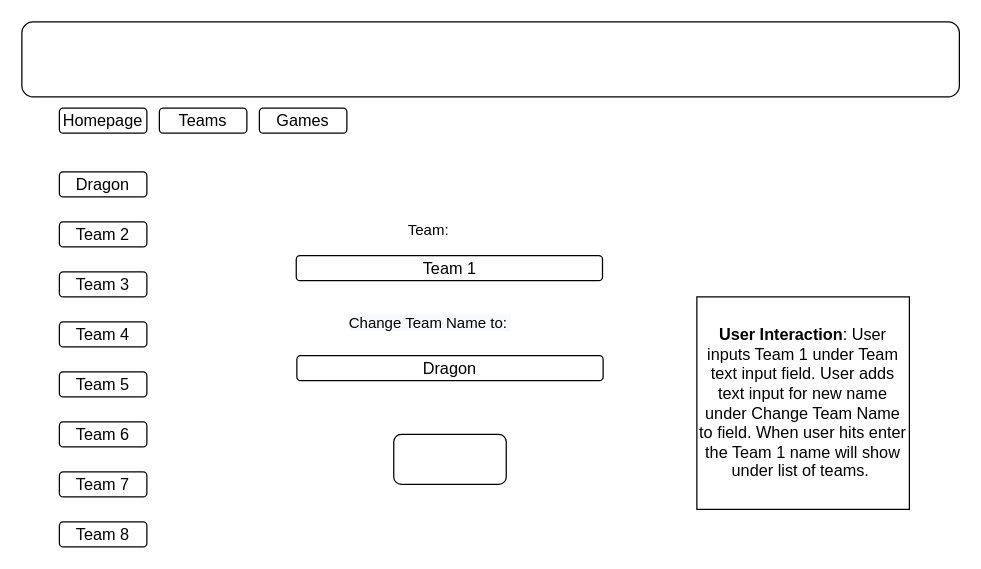
Some shapes in this 981 by 569 pixel diagram are drawn without their labels. The centre of each missing label's shape, as x and y in pixels:
Lawn Game Olympics App: pixel 490 59
Submit: pixel 449 458
